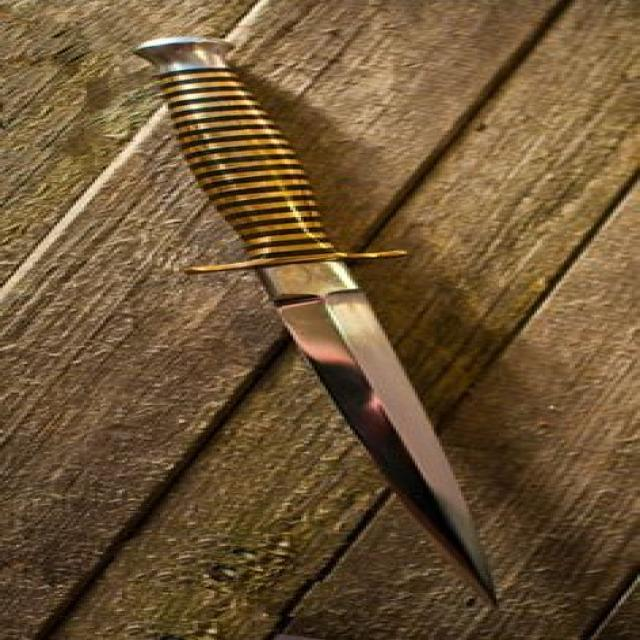short sword: (116, 33, 522, 608)
